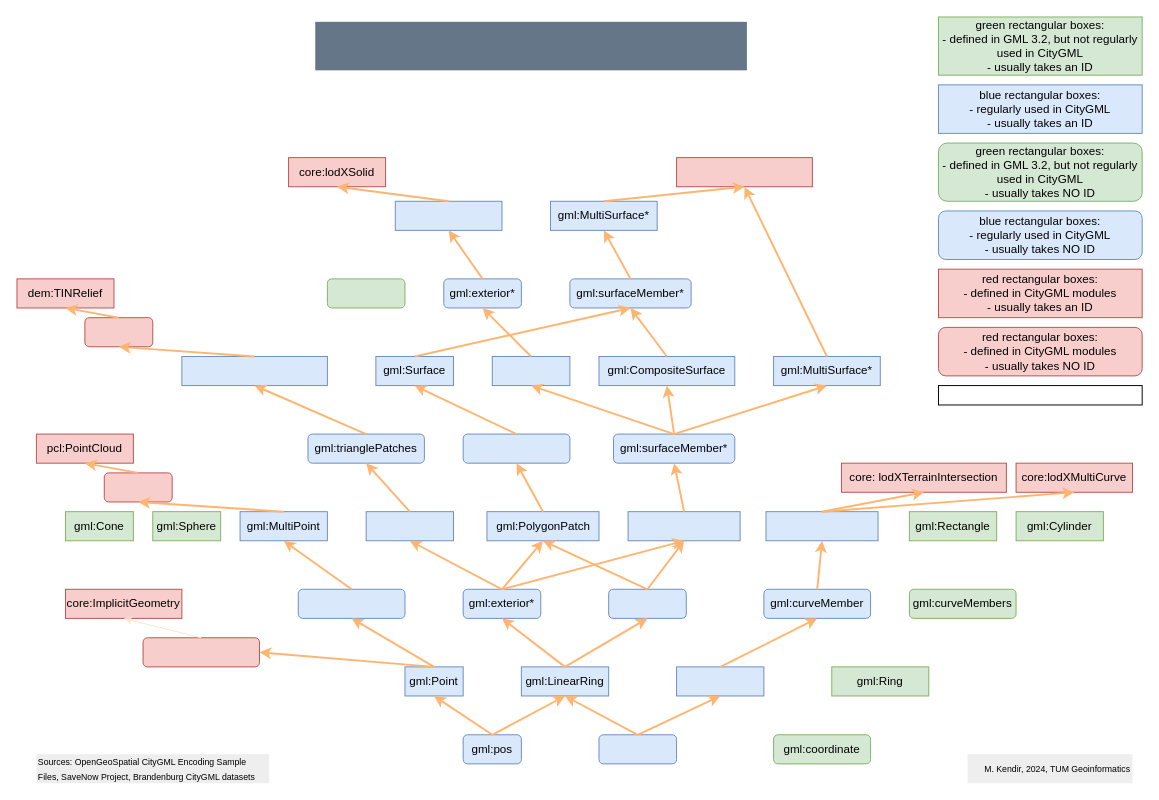
Image size: 1159x800. Some labels were removed from this diagram. Here are the shapes that lost their labels. From the top down, the centre of each, then its label:
the point at 530,45: Most Used GML Geometries in CityGML Models -Reverse Visualization-
the point at 744,172: core:lodXMultiSurface
the point at 448,215: gml:Solid
the point at 365,293: gml:interior*
the point at 118,332: dem:tin
the point at 254,371: gml:TriangulatedSurface
the point at 530,371: gml:Shell
the point at 1040,395: * : may repeat in nested structure
the point at 516,448: gml:patches
the point at 137,487: pcl:points
the point at 409,526: gml:Triangle
the point at 683,526: gml:Polygon
the point at 821,526: gml:MultiCurve
the point at 351,603: gml:pointMember
the point at 647,603: gml:interior
the point at 200,652: core:referencePoint
the point at 720,681: gml:LineString
the point at 637,749: gml:posList
